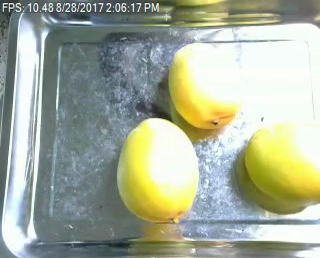Mango: (116, 117, 201, 224), (166, 43, 243, 129), (245, 120, 320, 208)
